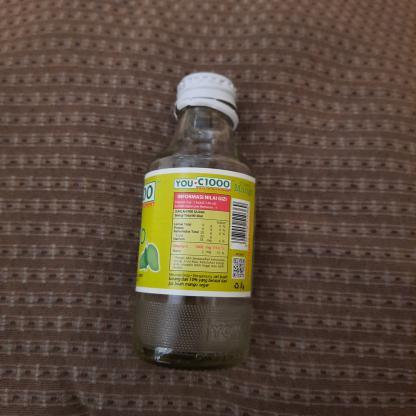bottle: (125, 64, 263, 377)
